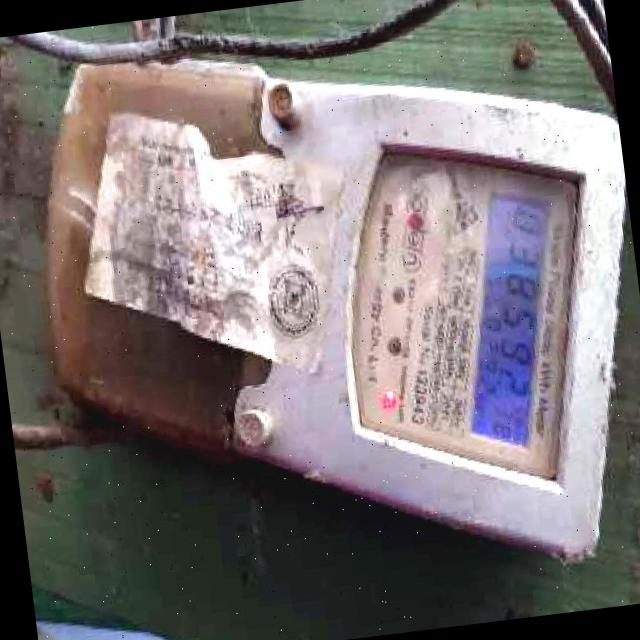LCD: (438, 185, 584, 456)
